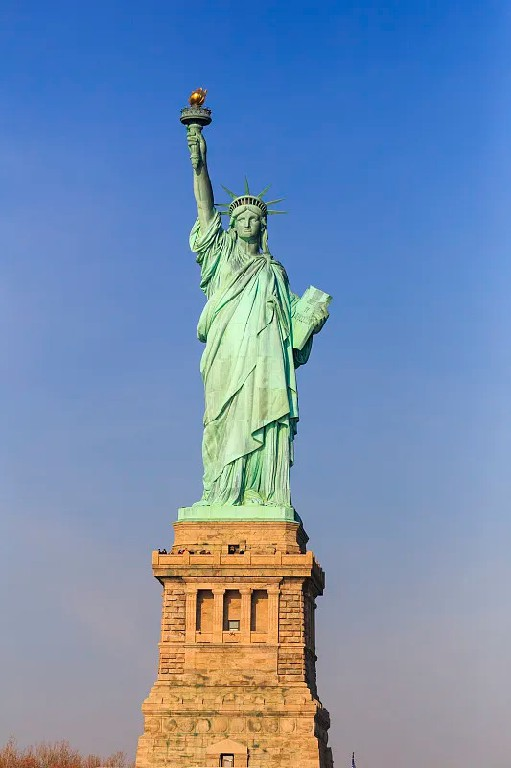SL: (134, 87, 332, 768)
